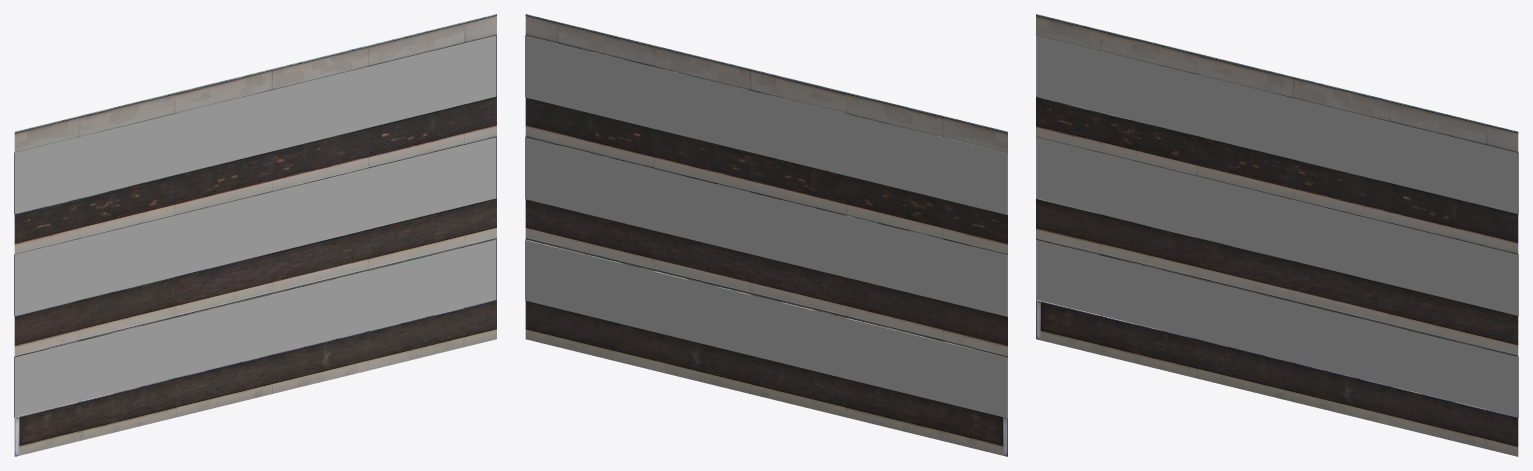
The model's file is building_office5.obj.
3 views of the same model, side by side, from view 1: azimuth 30°, elevation 25°; view 2: azimuth 150°, elevation 25°; view 3: azimuth 330°, elevation 25° (orthographic).
Parts seen in each view (by area): view 1: building_office5; view 2: building_office5; view 3: building_office5.
Part boxes in pixels (x1=…): building_office5: x1=14, y1=14, x2=496, y2=456; building_office5: x1=525, y1=14, x2=1007, y2=456; building_office5: x1=1036, y1=14, x2=1518, y2=456.
Size of the model in its own units: 5 by 3.22 by 0.00972.
